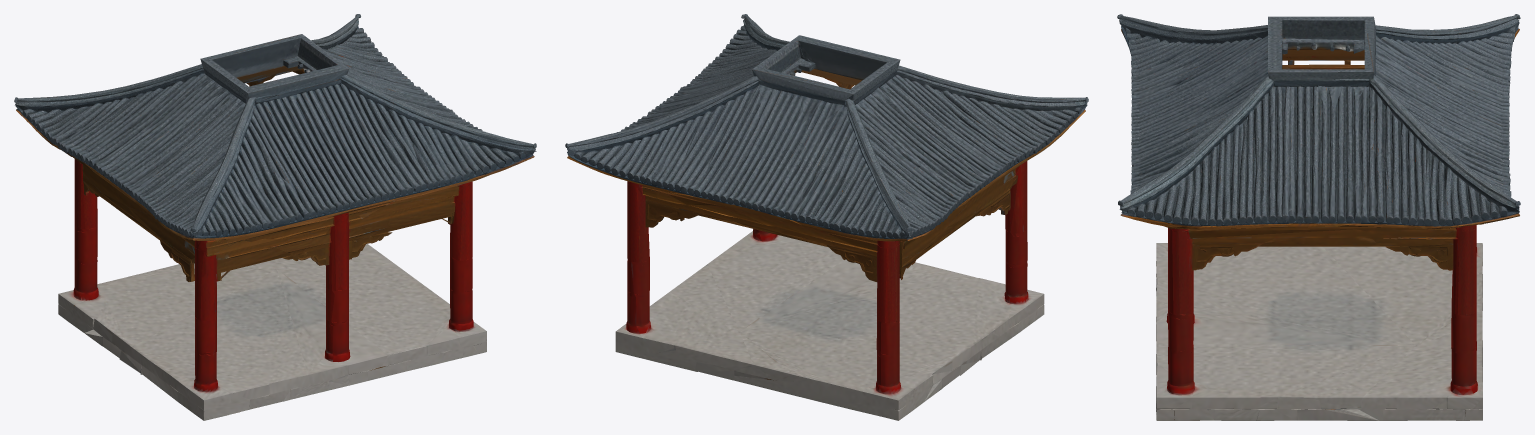
The model's file is pavilion.glb.
The picture shows the model from 3 angles, left to right: view 1: azimuth 30°, elevation 25°; view 2: azimuth 150°, elevation 25°; view 3: azimuth 270°, elevation 25°; orthographic projection. The views are drawn at different scales.
Bounding box in the file's own units: 1.9 × 1.41 × 1.71.
1 material, 1 textured.
